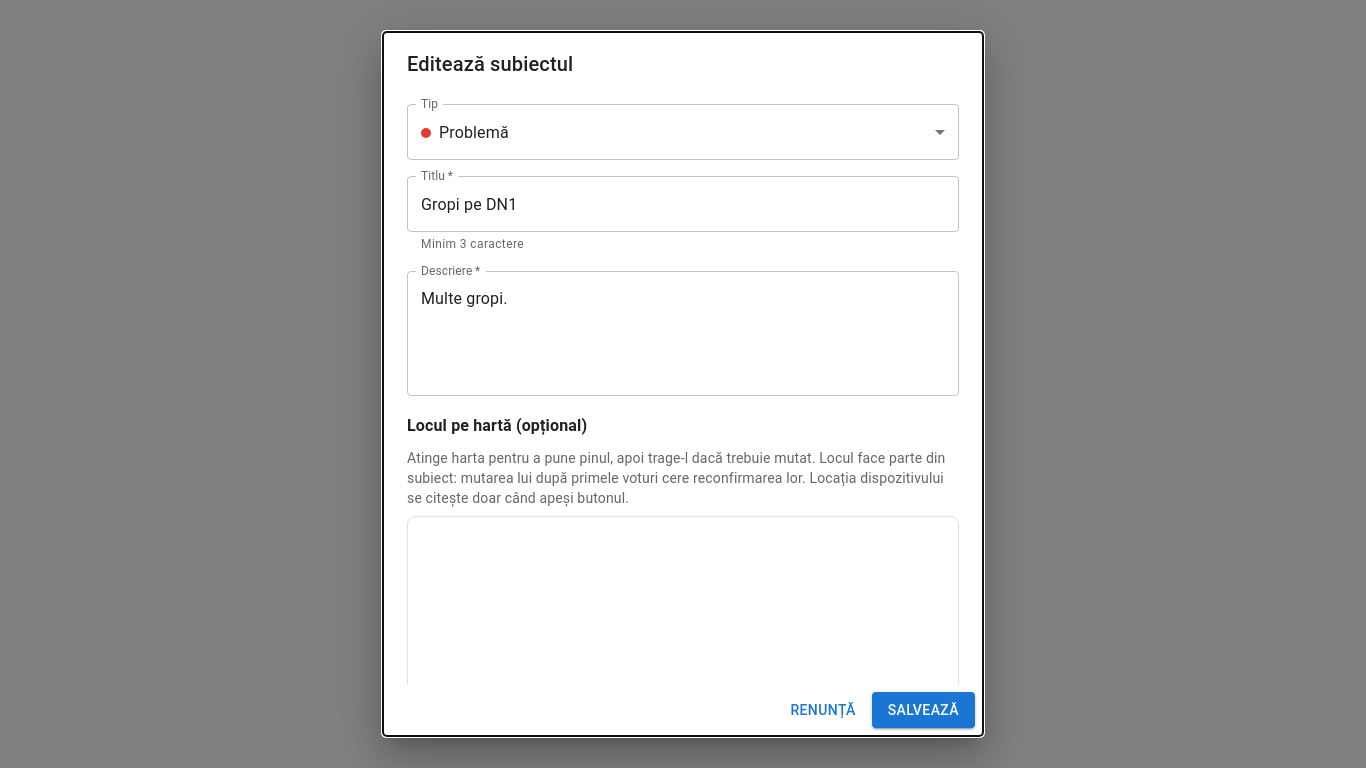
Scenario: admin: toate tipurile si stadiul/vizibilitatea la editare
The width and height of the screenshot is (1366, 768).
Press the mouse on the dropdown at (465, 132), box [421, 122, 509, 142]
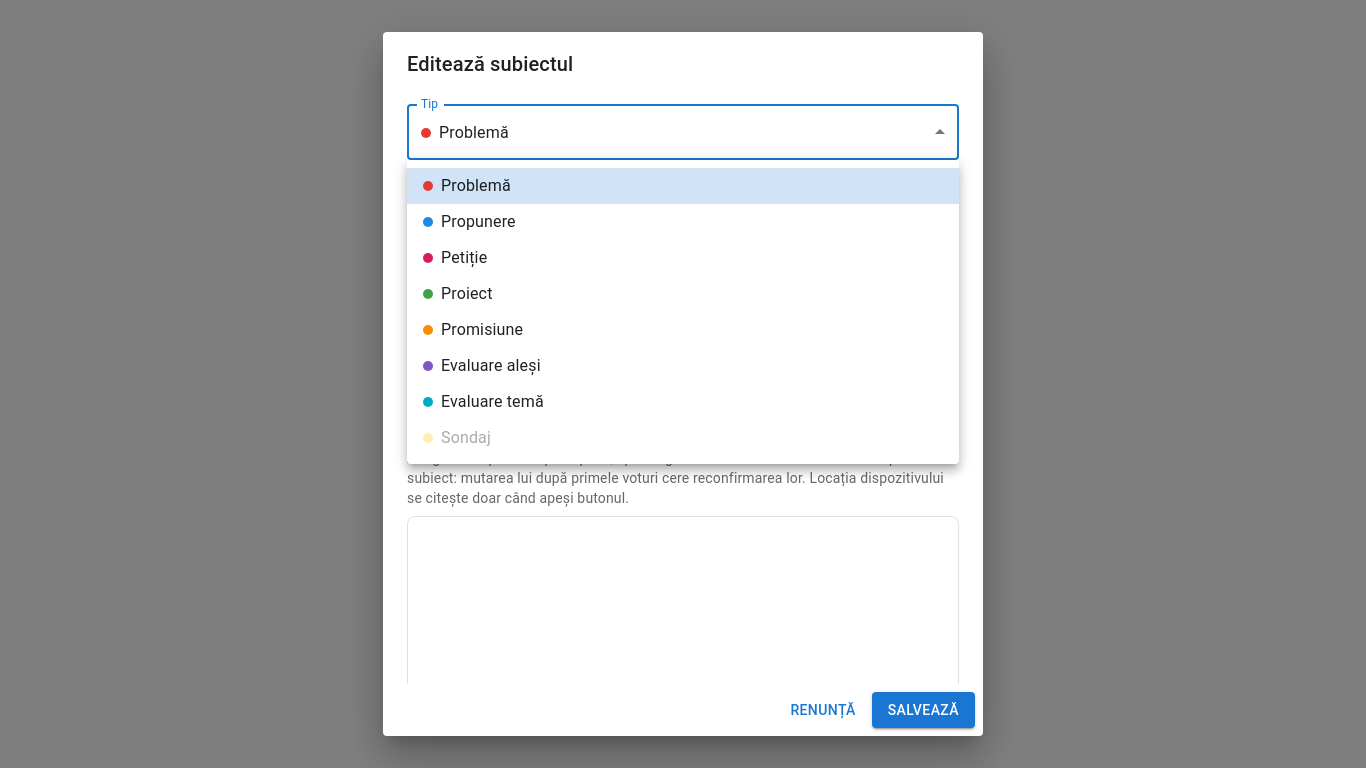
expect the number of options is 8: met
